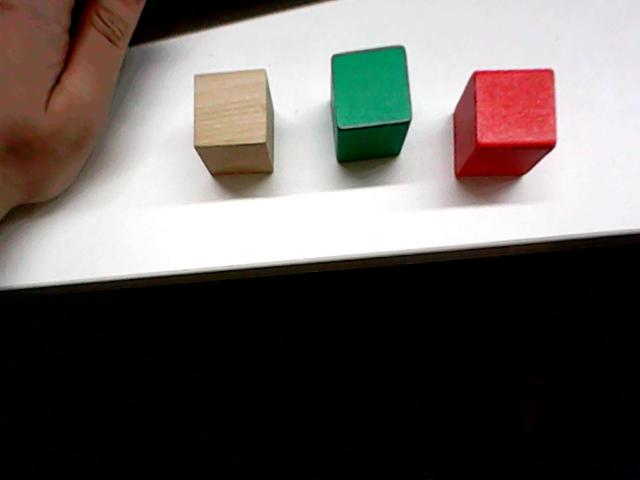green_box: (326, 41, 414, 165)
raw_box: (189, 65, 277, 178)
red_box: (449, 63, 560, 181)
